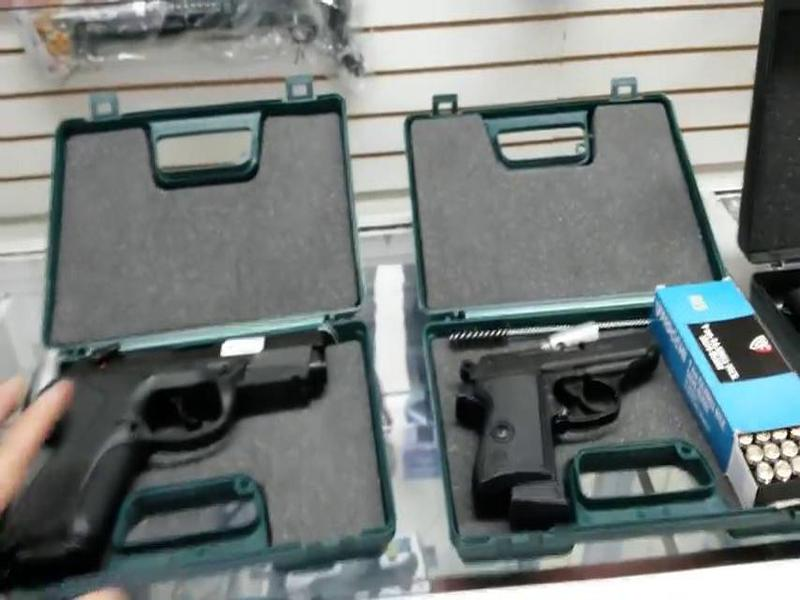Pistola: (26, 344, 327, 543), (438, 321, 670, 500)
